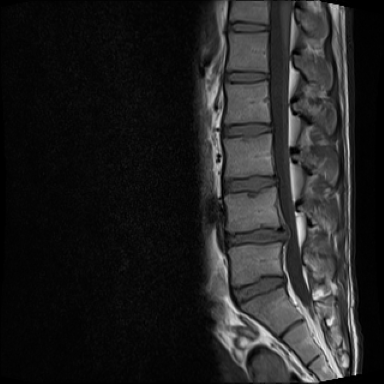Degenerative Disc Disease (DDD): (227, 269, 288, 312), (220, 172, 282, 197)
Lumbar Disc Bulge (LDB): (223, 222, 296, 252)
Normal IVD: (220, 121, 274, 139), (223, 69, 270, 86), (226, 23, 273, 35)
Spinal Stenosis (SS): (275, 223, 294, 245)
